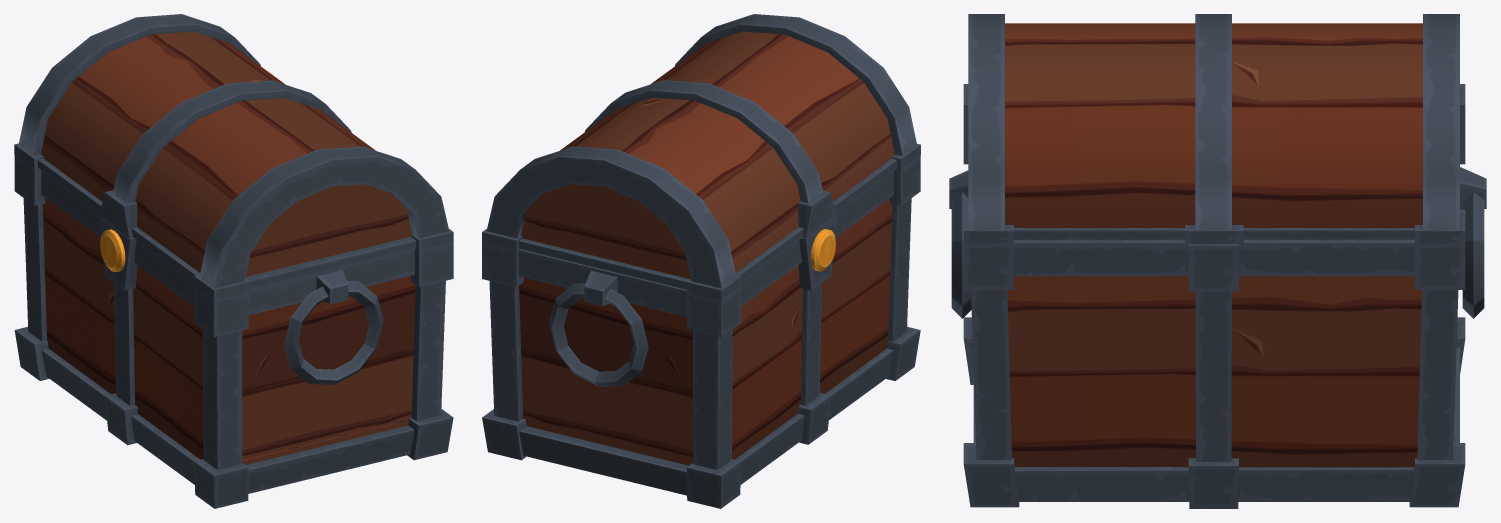
Rendered from TreasureChest1.fbx.
The picture shows the model from 3 angles, left to right: view 1: azimuth 30°, elevation 25°; view 2: azimuth 150°, elevation 25°; view 3: azimuth 270°, elevation 25°; orthographic projection. The views are drawn at different scales.
Parts seen in each view (by area): view 1: TreasureChest1, TreasureChestLid; view 2: TreasureChest1, TreasureChestLid; view 3: TreasureChest1, TreasureChestLid.
Boxes of the visible parts, x1,y1,x2,y2 form: TreasureChest1: (14, 155, 453, 508); TreasureChestLid: (14, 14, 453, 300); TreasureChest1: (482, 156, 920, 508); TreasureChestLid: (482, 14, 920, 300); TreasureChest1: (949, 118, 1486, 508); TreasureChestLid: (963, 14, 1465, 244).
Bounding box in the file's own units: 67.91 × 83.88 × 101.
